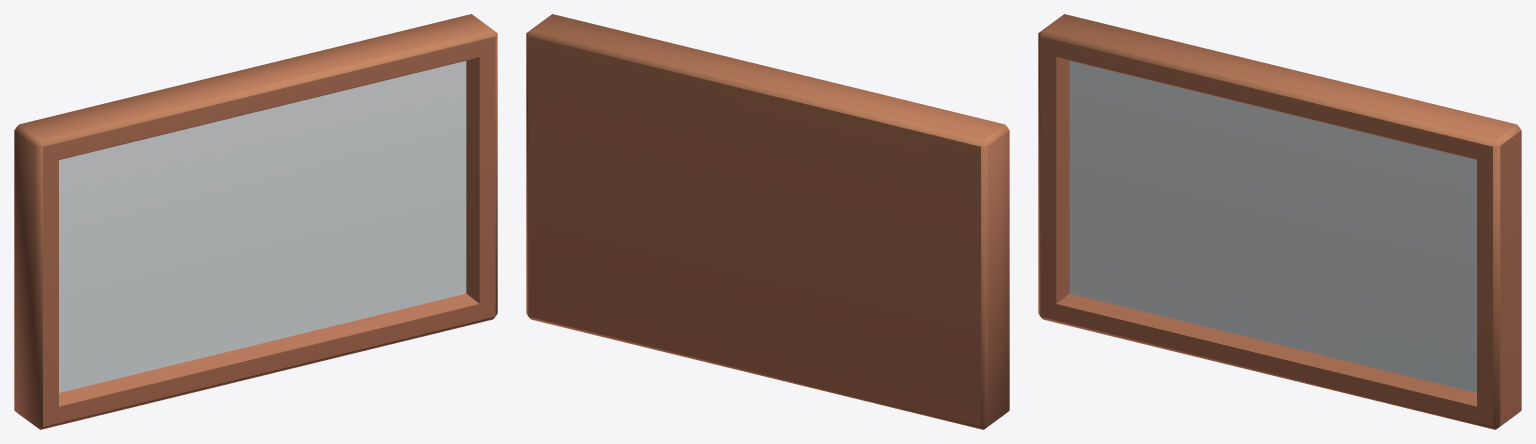
File: kaykit-furniture-bits-pictureframe-large-b.glb
3 views of the same model, side by side, from view 1: azimuth 30°, elevation 25°; view 2: azimuth 150°, elevation 25°; view 3: azimuth 330°, elevation 25° (orthographic).
Visible parts, largest first — view 1: pictureframe_large_B; view 2: pictureframe_large_B; view 3: pictureframe_large_B.
Part boxes in pixels (x1=…): pictureframe_large_B: x1=14, y1=14, x2=497, y2=429; pictureframe_large_B: x1=526, y1=14, x2=1009, y2=429; pictureframe_large_B: x1=1038, y1=14, x2=1521, y2=429.
Bounding box in the file's own units: 2 × 1.2 × 0.2.
Materials: 1 (1 with a texture image).
